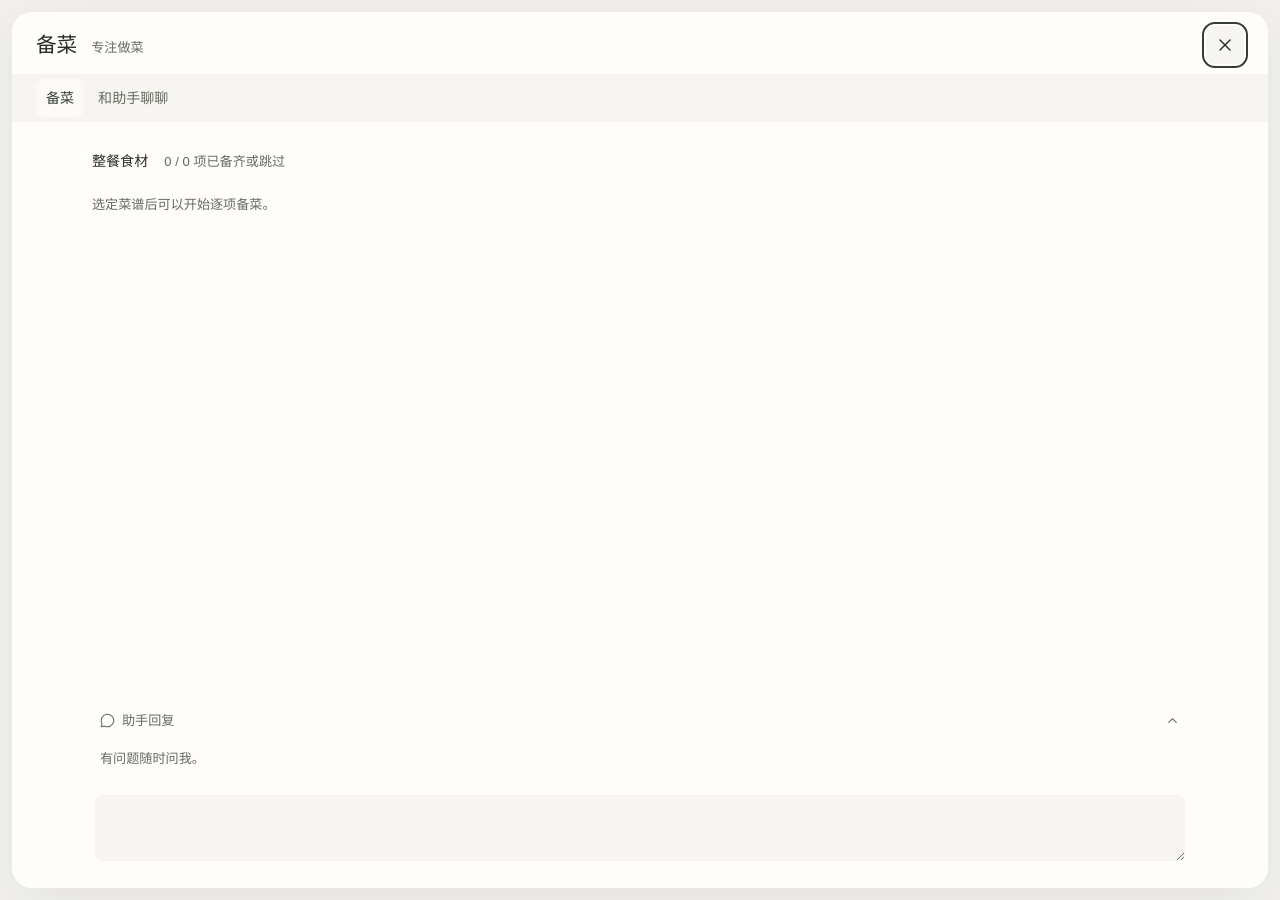
focus conversation alongside the task › uses the ordinary conversation presentation in the full chat view
Click the button "和助手聊聊": coordinates (133, 98) [88,79,178,117]
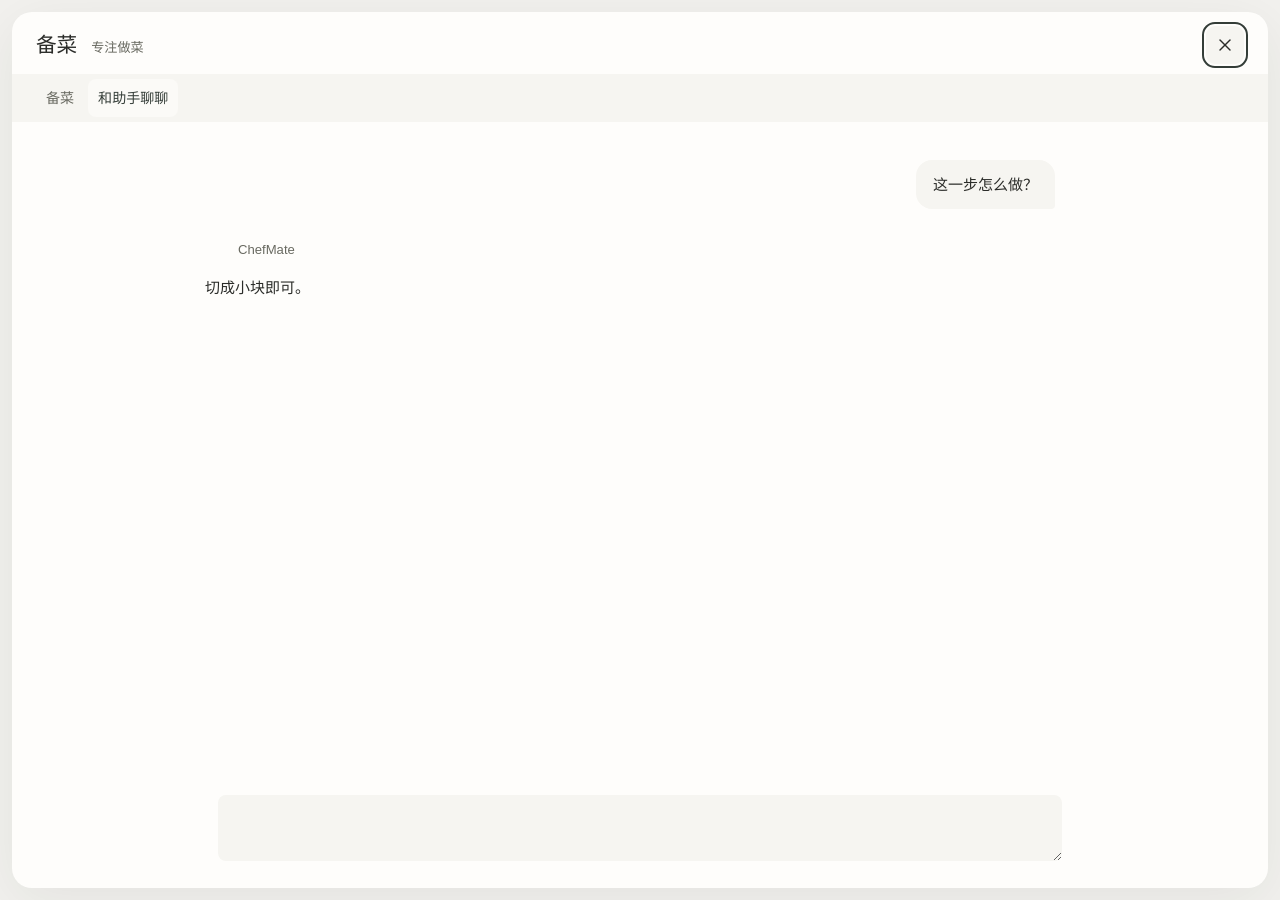
Expected: the text with class "user-bubble" reads "这一步怎么做？", [933,176,1038,193]
Expected: the element named "ChefMate 的回复" shows "切成小块即可。", [205,279,310,296]
Expected: the element with class "focus-reply" is gone
